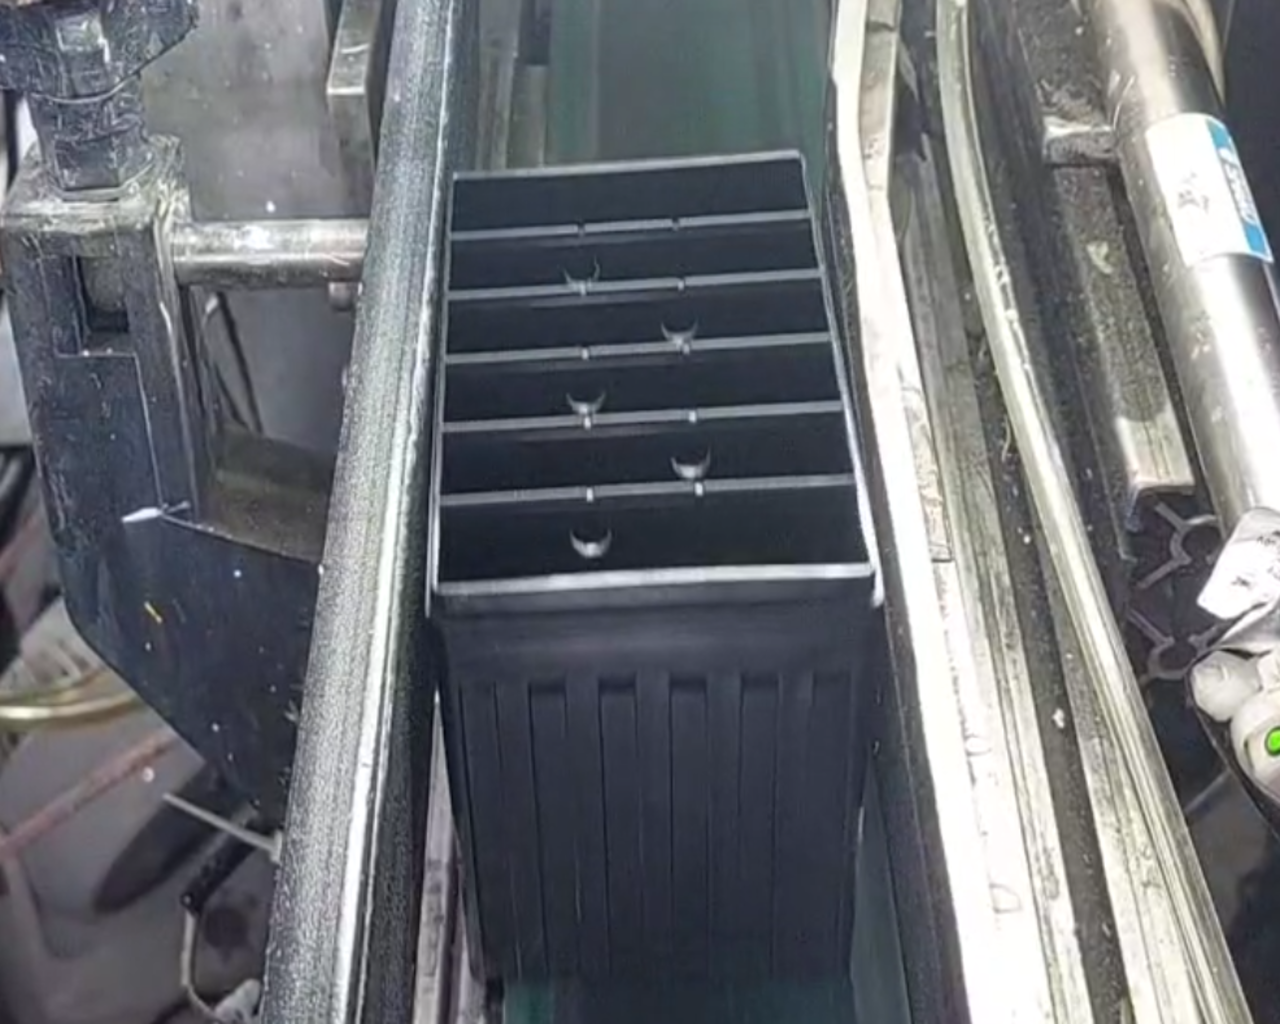box: (412, 133, 897, 638)
round: (548, 505, 625, 563), (546, 237, 609, 293), (650, 432, 722, 480), (549, 370, 619, 416), (648, 298, 711, 348)
